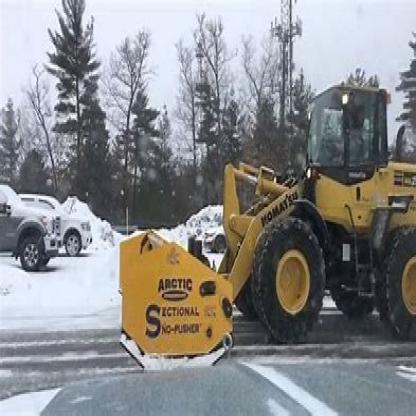bull_dozer/loader/grader: (207, 65, 415, 355)
